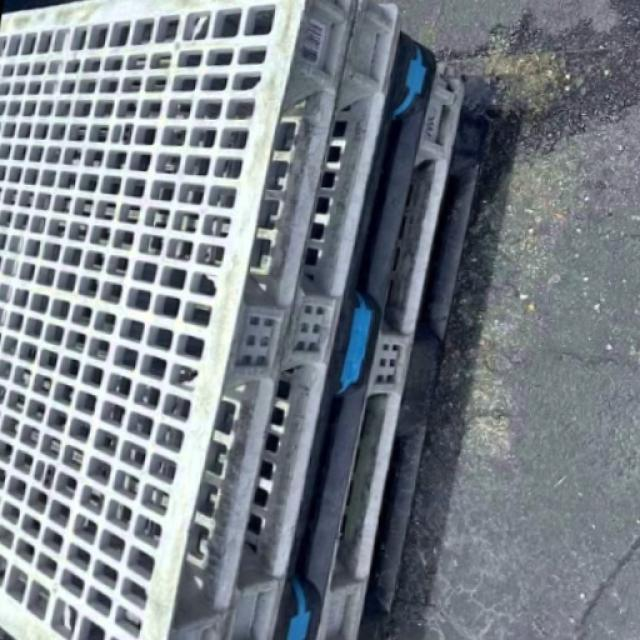non-igps: (0, 0, 374, 640), (206, 0, 414, 640), (262, 20, 451, 640), (304, 44, 475, 640), (343, 88, 513, 640)
